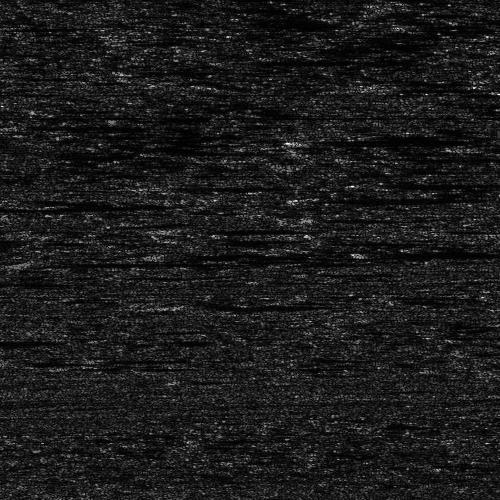object: (198, 191, 395, 206), (110, 182, 203, 189), (0, 199, 68, 208), (433, 143, 486, 152), (0, 255, 25, 272), (10, 107, 21, 142), (157, 224, 188, 233), (352, 180, 393, 185), (151, 303, 182, 308), (0, 358, 25, 363), (297, 136, 318, 141), (156, 149, 177, 152)
shadow: (16, 107, 186, 142), (10, 255, 261, 272), (297, 191, 500, 206), (32, 199, 215, 208), (173, 224, 289, 233), (308, 136, 500, 141), (156, 182, 274, 189), (0, 203, 85, 212), (167, 303, 320, 308), (373, 180, 500, 185), (459, 143, 500, 152), (5, 358, 76, 363), (167, 149, 280, 152), (0, 337, 31, 344)
